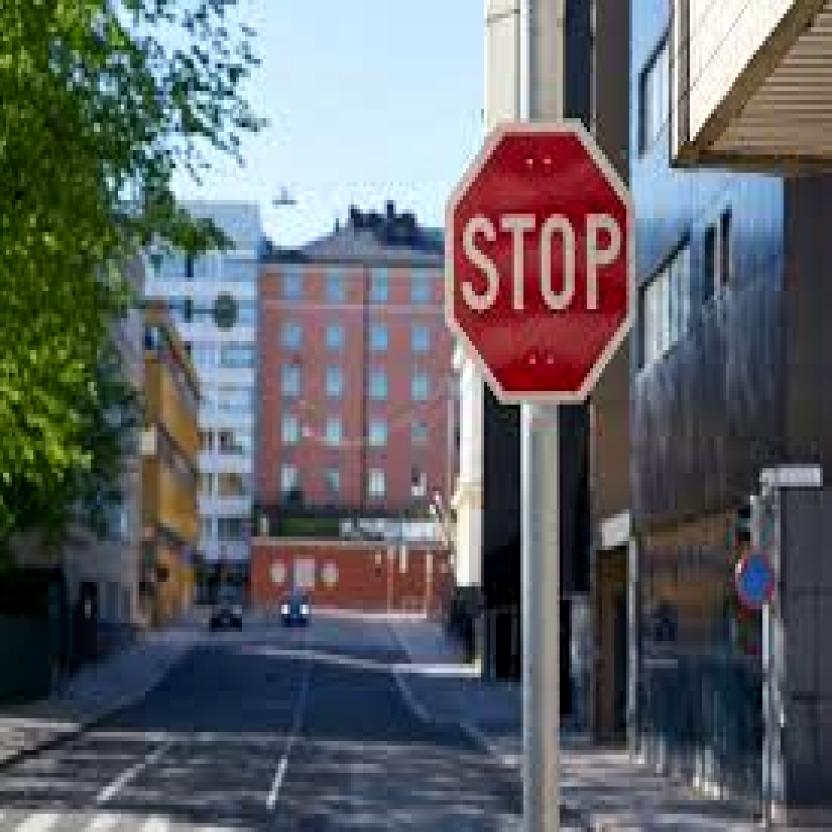Pole: (522, 414, 560, 824)
Sign: (446, 120, 636, 401)
